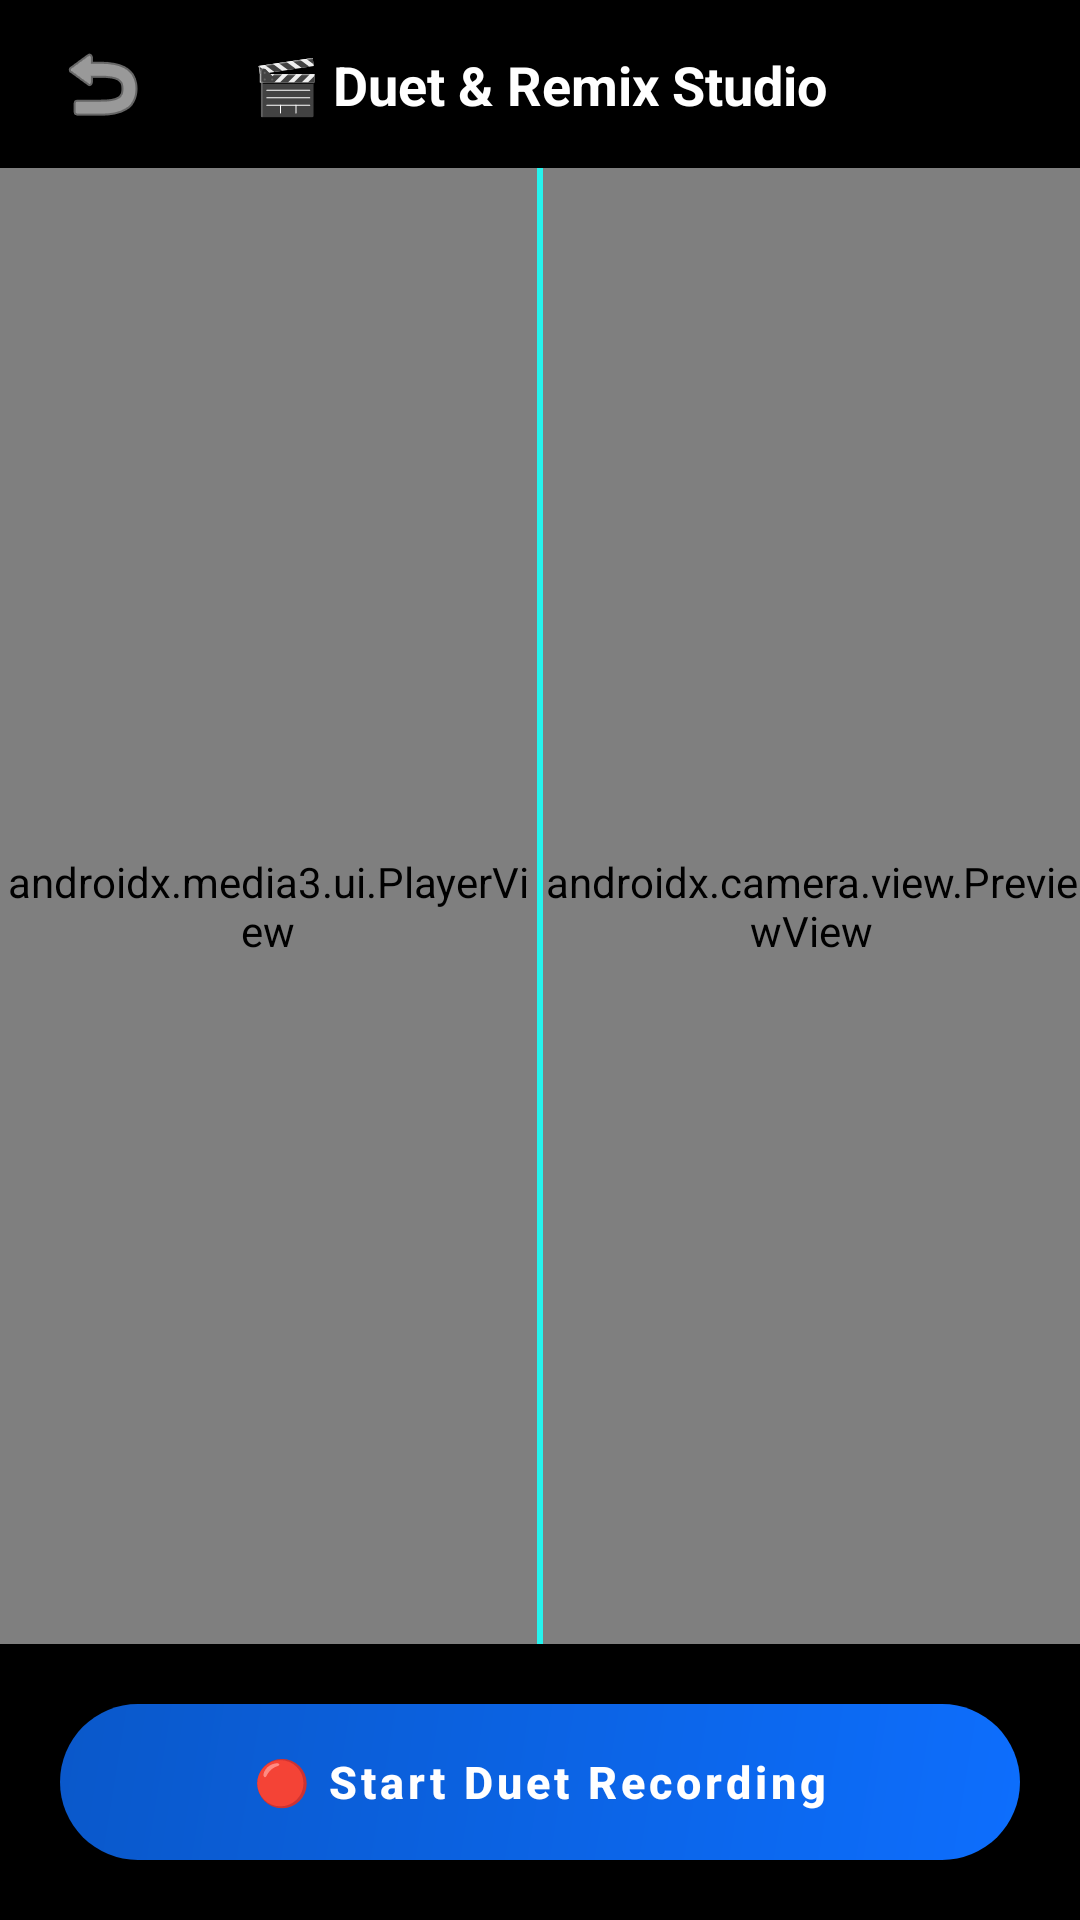

Icons on this 1080w x 1920h Android screen, each with the point to tap as (x,y):
Back: (103,84)
